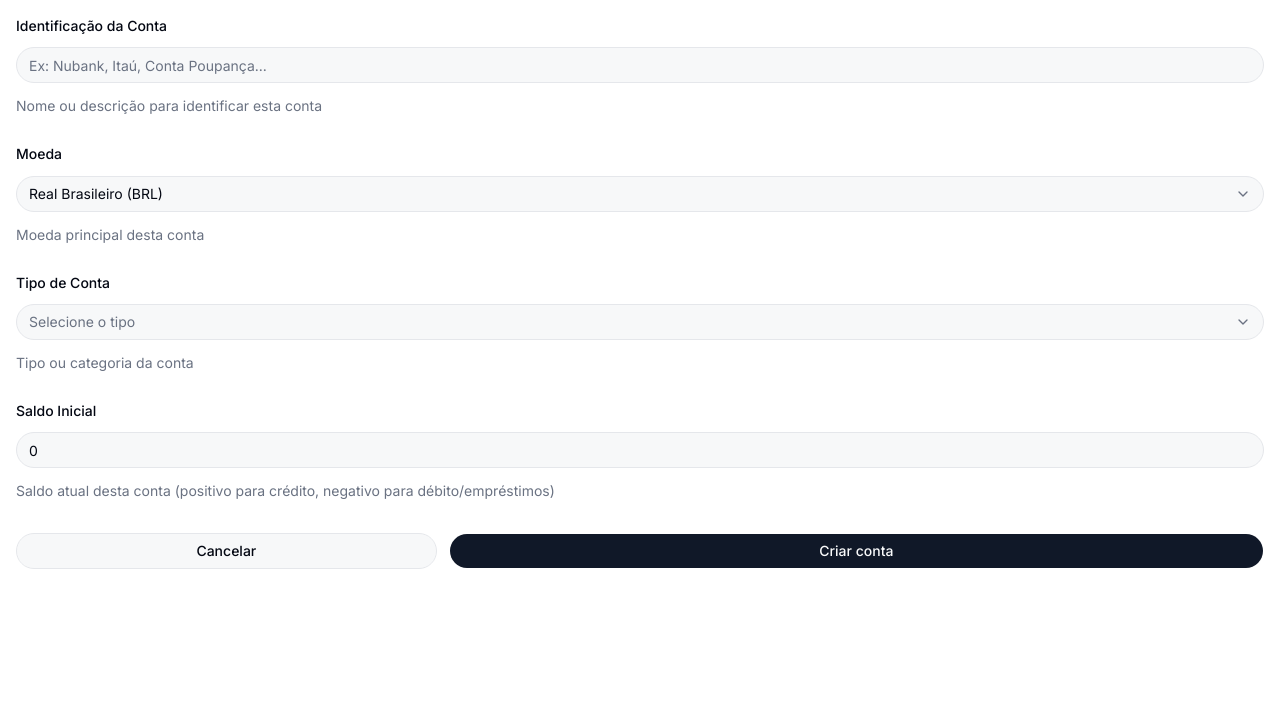
Test: AccountForm › validates required fields
Click the button "Criar conta" at (856, 551), box 449,533 -> 1264,569
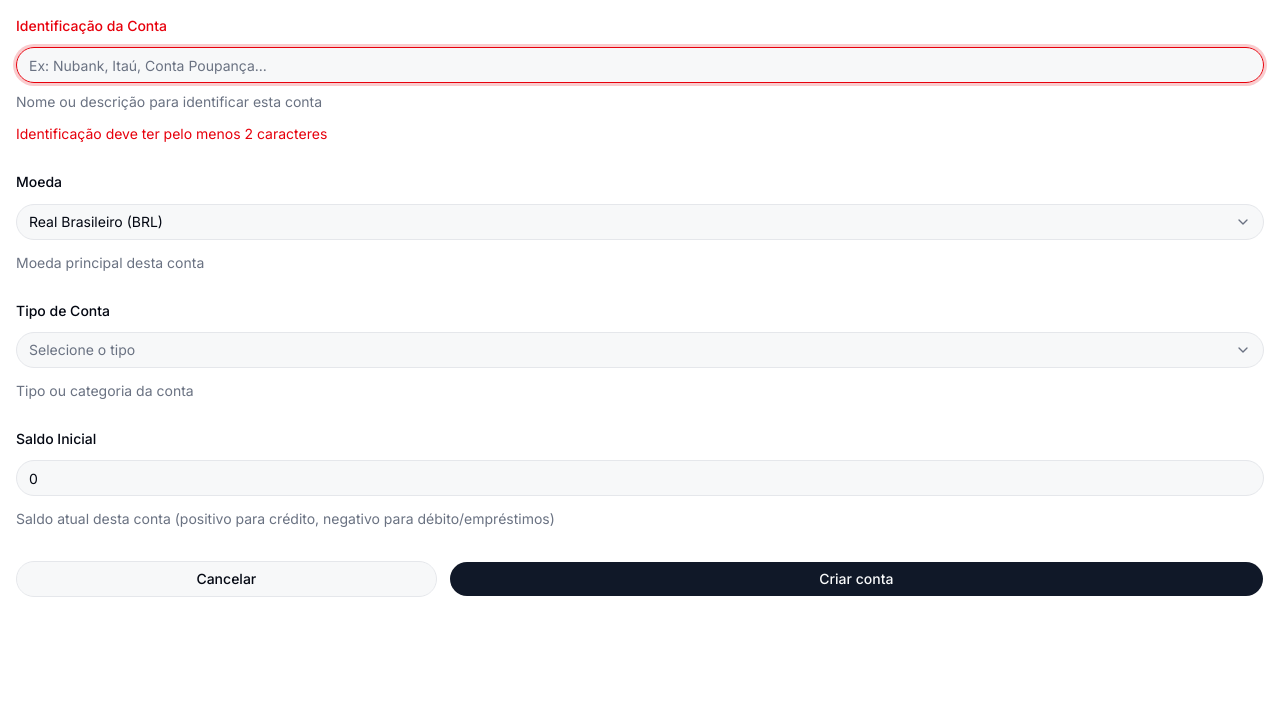
expect the text "Identificação deve ter pelo menos 2 caracteres" is shown: met, box 16,125 -> 327,142
